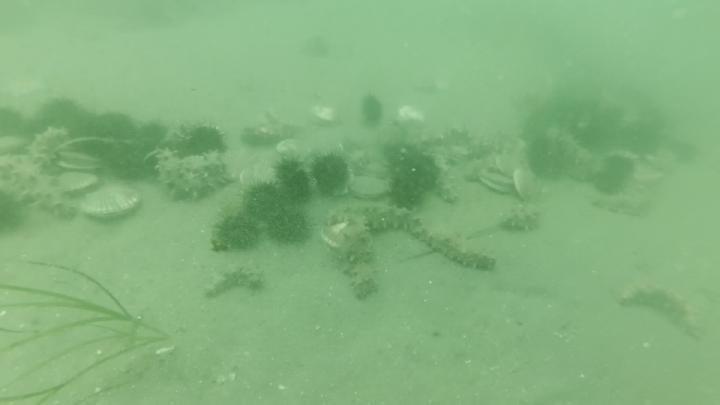echinus: (35, 98, 90, 151), (88, 109, 140, 162), (210, 214, 264, 256), (267, 204, 315, 250), (525, 133, 569, 181), (591, 152, 640, 195), (238, 180, 286, 222), (310, 151, 353, 197), (402, 154, 441, 196), (567, 110, 608, 147), (623, 122, 663, 158), (1, 188, 27, 240), (188, 125, 229, 157), (387, 176, 423, 211), (133, 119, 170, 153), (1, 104, 34, 141), (285, 169, 318, 205), (275, 154, 305, 188), (388, 141, 419, 172), (361, 93, 387, 129), (301, 34, 334, 61)
holothurian: (617, 276, 706, 346), (2, 154, 79, 219), (156, 148, 235, 204), (414, 229, 499, 275), (339, 223, 381, 303), (202, 262, 268, 303), (323, 205, 417, 232), (589, 182, 657, 219), (556, 131, 605, 178), (25, 127, 75, 172), (430, 153, 463, 205), (498, 203, 543, 233), (344, 150, 372, 175)
scallop: (79, 184, 146, 224), (56, 134, 111, 171), (56, 169, 101, 198), (351, 175, 394, 201), (512, 167, 543, 203), (477, 169, 517, 196), (275, 137, 312, 166), (321, 221, 353, 254), (310, 101, 343, 130), (493, 151, 525, 178), (331, 166, 357, 199), (395, 104, 429, 124)
waterweeds: (1, 253, 175, 405)
